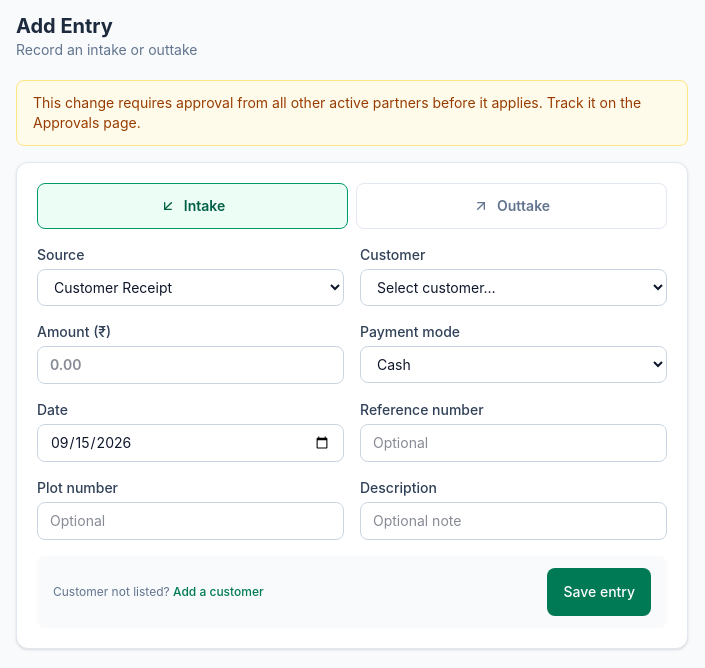
Scenario: AddEntry › switches selectors correctly across sources and outtake
Expected: the dropdown labelled "Customer" is shown, [360,269,667,306]
Select "Partner Capital" in the dropdown labelled "Source" at (190, 288), box [37,269,344,306]
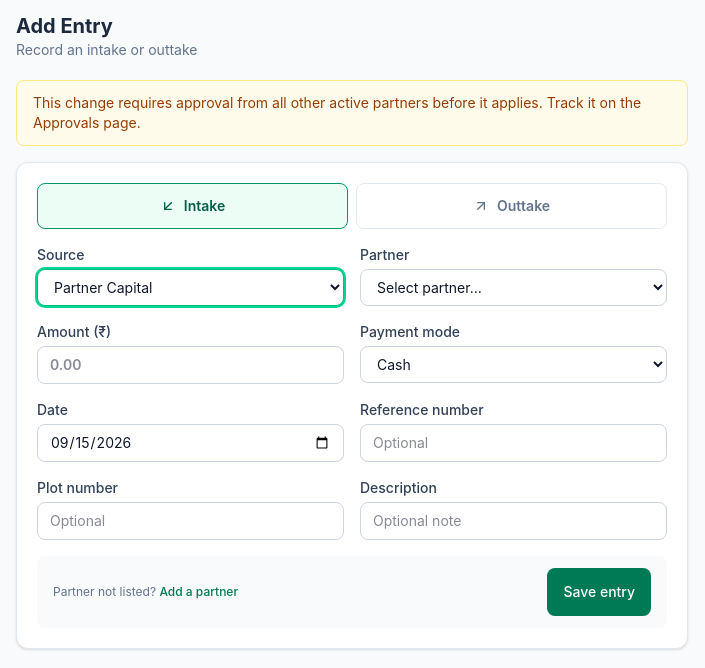
Expected: the dropdown labelled "Partner" is shown, [360,269,667,306]
Expected: the label labelled "Customer" is gone
Select "Partner Loan" in the dropdown labelled "Source" at (190, 288), box [37,269,344,306]
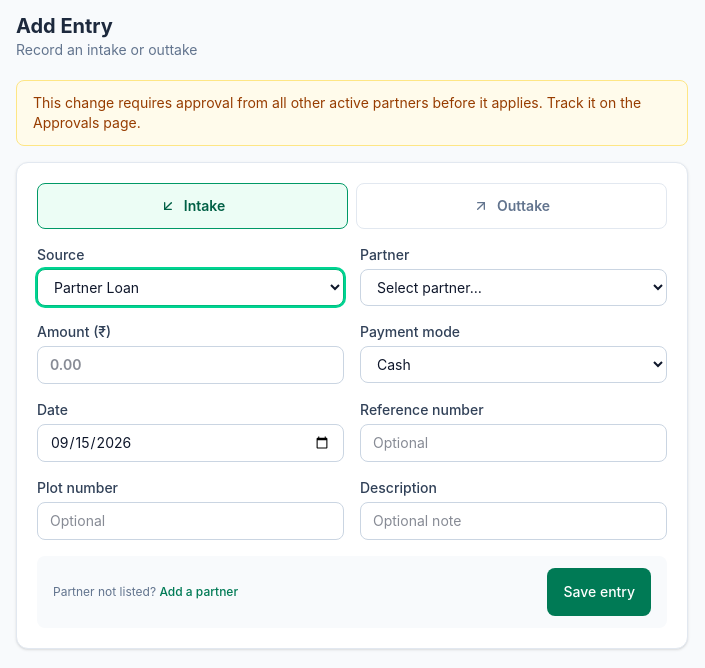
Expected: the dropdown labelled "Partner" is shown, [360,269,667,306]
Expected: the label labelled "Customer" is not shown
Select "Customer Receipt" in the dropdown labelled "Source" at (190, 288), box [37,269,344,306]
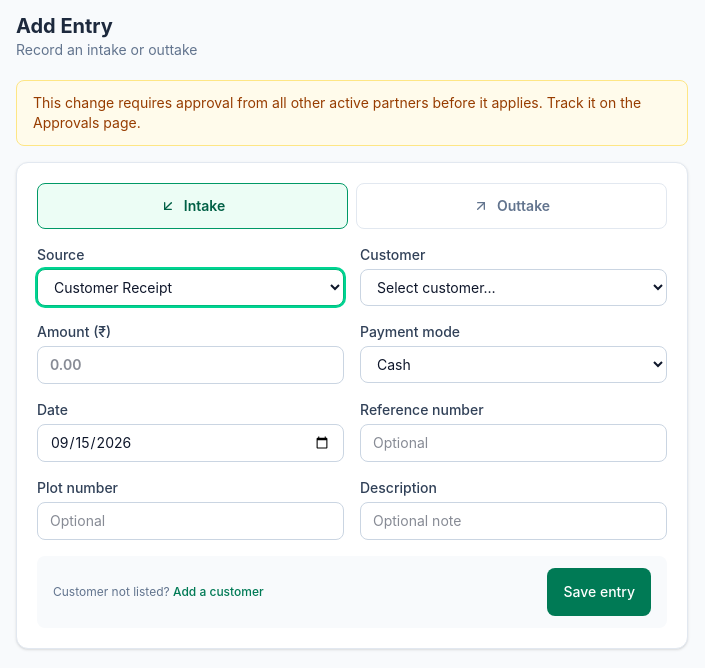
Expected: the dropdown labelled "Customer" is shown, [360,269,667,306]
Click the button "Outtake" at (512, 206), box [356,183,667,229]
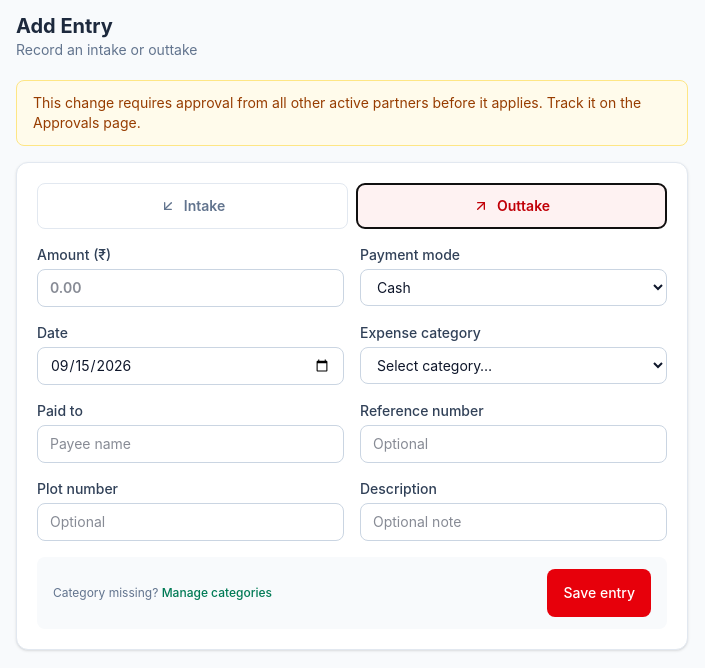
Expected: the label labelled "Source" is gone
Expected: the label labelled "Customer" is gone
Expected: the dropdown labelled "Expense category" is shown, [360,347,667,384]
Click the button "Intake" at (192, 206), box [37,183,348,229]
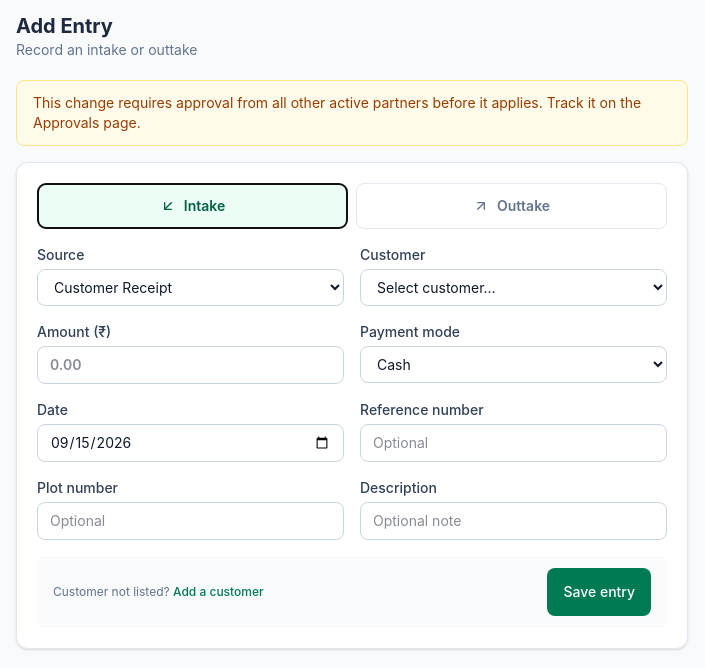
Expected: the dropdown labelled "Customer" is shown, [360,269,667,306]
Expected: the label labelled "Expense category" is gone
